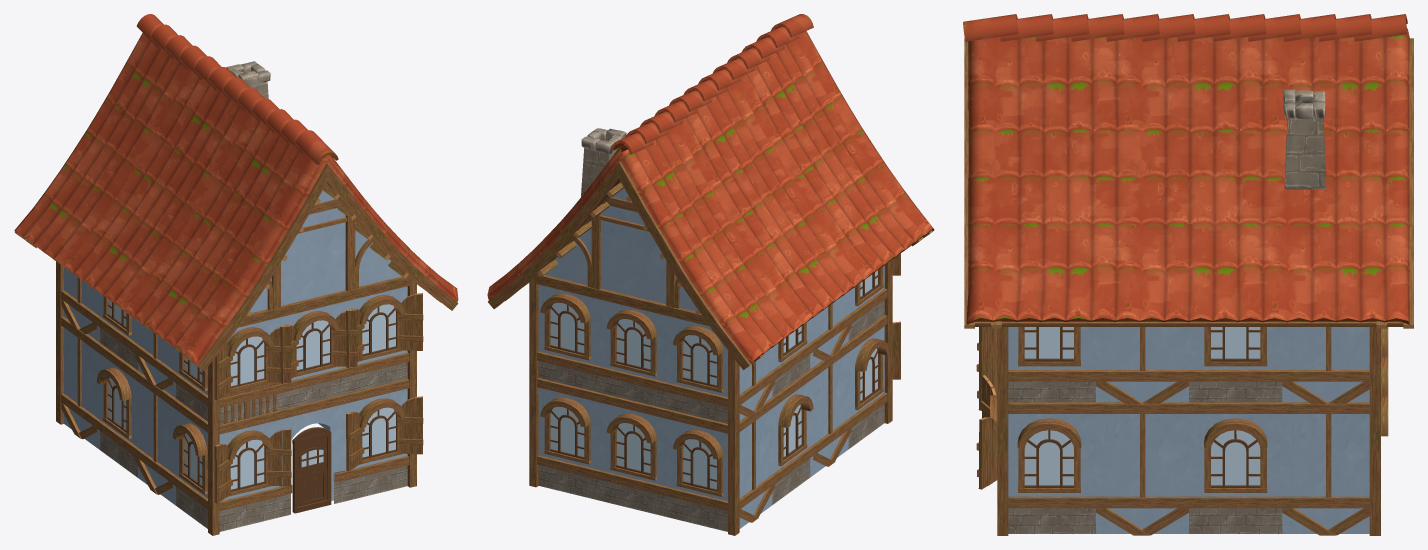
File: house_blue.glb
The picture shows the model from 3 angles, left to right: view 1: azimuth 30°, elevation 25°; view 2: azimuth 150°, elevation 25°; view 3: azimuth 270°, elevation 25°; orthographic projection. The views are drawn at different scales.
Parts seen in each view (by area): view 1: Wall_Plaster_Window_Wide_Round, Roof_RoundTiles_6x8, Corner_Exterior_Wood, Window_Wide_Round1, Roof_Front_Brick6, Prop_Chimney, Wall_Plaster_Door_Round; view 2: Roof_RoundTiles_6x8, Wall_Plaster_Window_Wide_Round, Corner_Exterior_Wood, Window_Wide_Round1, Roof_Front_Brick6, Prop_Chimney; view 3: Roof_RoundTiles_6x8, Wall_Plaster_Window_Wide_Round, Window_Wide_Round1, Corner_Exterior_Wood, Prop_Chimney.
Boxes of the visible parts, box(x1,y1,x2,y2) form: Wall_Plaster_Window_Wide_Round: box(14, 164, 458, 531); Roof_RoundTiles_6x8: box(14, 14, 458, 365); Corner_Exterior_Wood: box(56, 185, 416, 535); Window_Wide_Round1: box(108, 300, 395, 489); Roof_Front_Brick6: box(249, 190, 401, 312); Prop_Chimney: box(226, 61, 270, 98); Wall_Plaster_Door_Round: box(279, 470, 345, 517); Roof_RoundTiles_6x8: box(487, 14, 934, 364); Wall_Plaster_Window_Wide_Round: box(488, 161, 934, 531); Corner_Exterior_Wood: box(529, 182, 892, 535); Window_Wide_Round1: box(550, 270, 877, 489); Roof_Front_Brick6: box(545, 188, 697, 311); Prop_Chimney: box(581, 128, 626, 196); Roof_RoundTiles_6x8: box(963, 14, 1409, 324); Wall_Plaster_Window_Wide_Round: box(964, 38, 1413, 535); Window_Wide_Round1: box(1024, 327, 1260, 485); Corner_Exterior_Wood: box(997, 327, 1380, 535); Prop_Chimney: box(1283, 89, 1326, 192).
Bounding box in the file's own units: 8.25 × 10.89 × 9.68.
6 materials, 5 textured.
